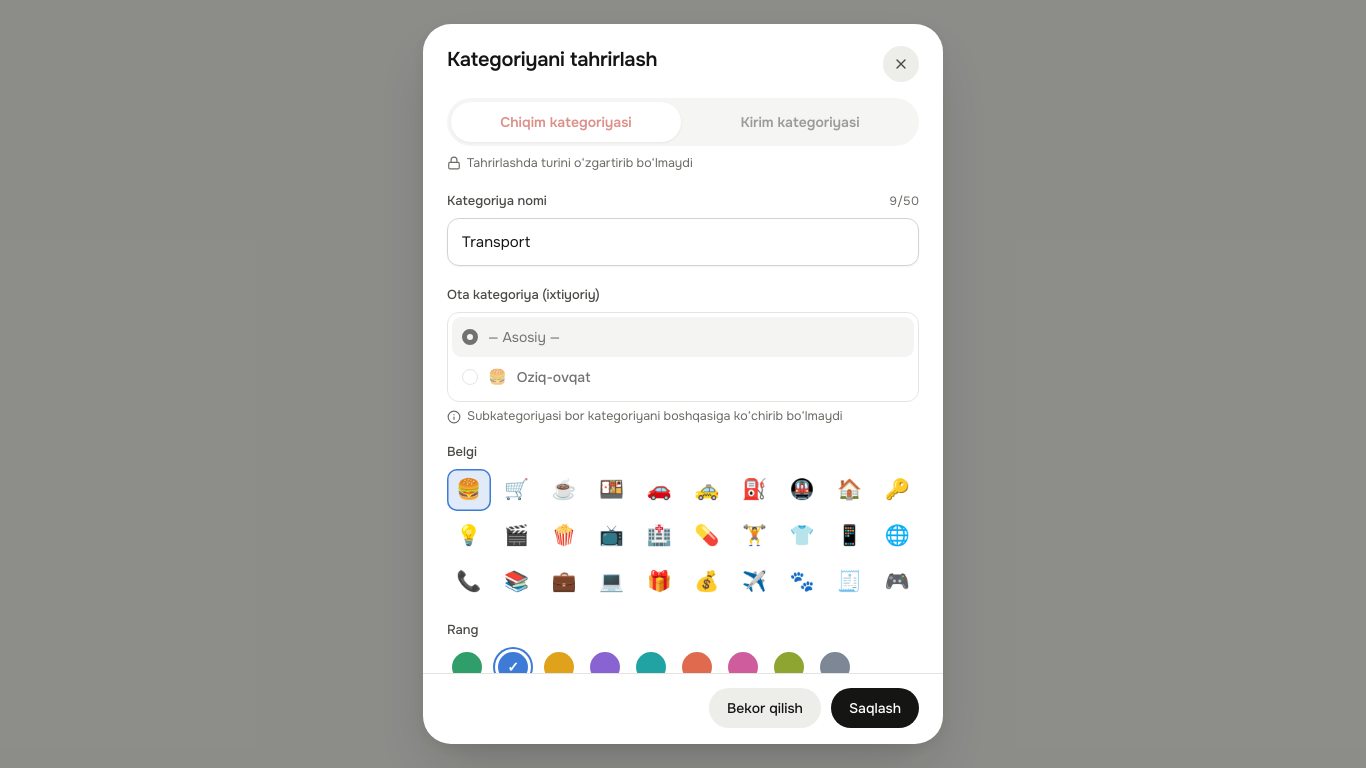
Scenario: CategoryModal › keeps a parent with subcategories at the top level
expect the text "Subkategoriyasi bor kategoriyani boshqasiga ko‘chirib bo‘lmaydi" is shown: met, box 447,408 -> 842,424
Click the radio button labelled "🍔 Oziq-ovqat". click: (554, 377)
box: 452,357 -> 914,397
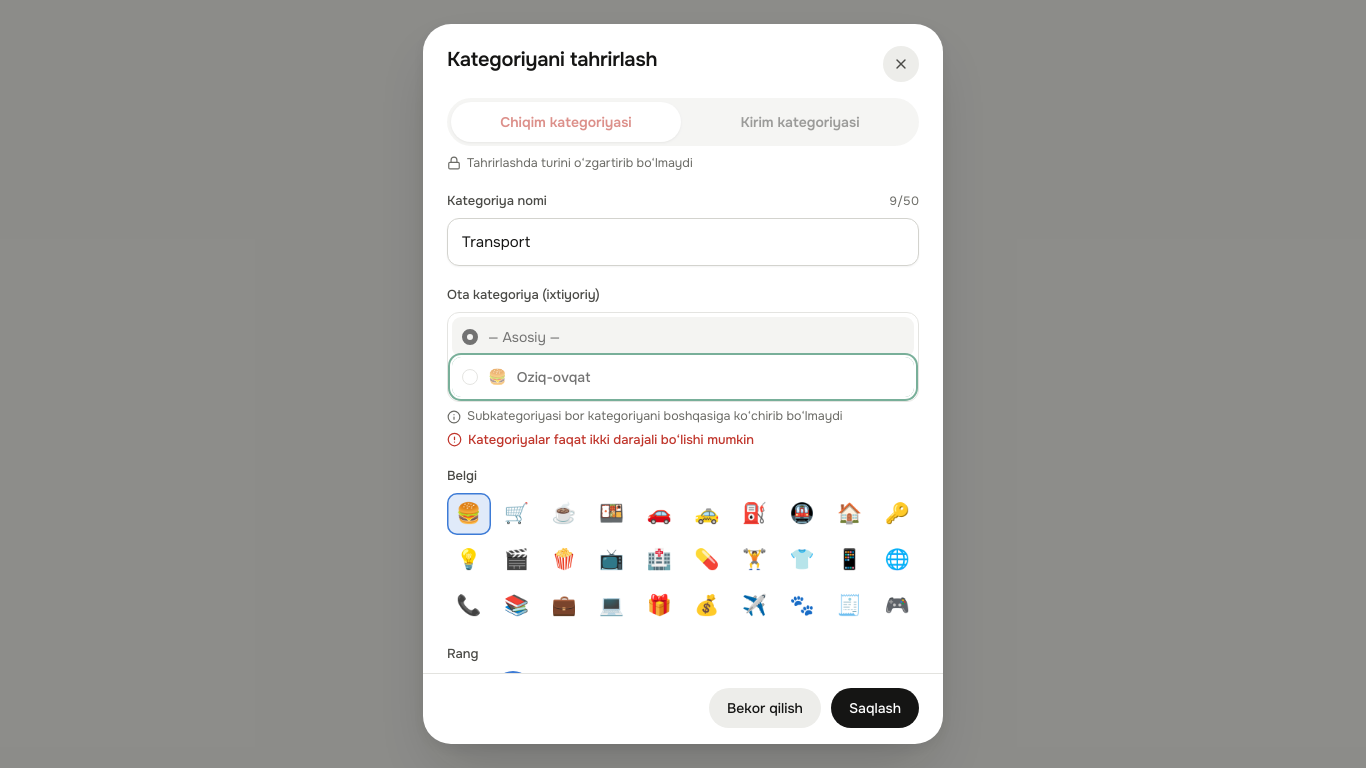
expect the message reads "Kategoriyalar faqat ikki darajali bo‘lishi mumkin": met, box 468,431 -> 754,448
